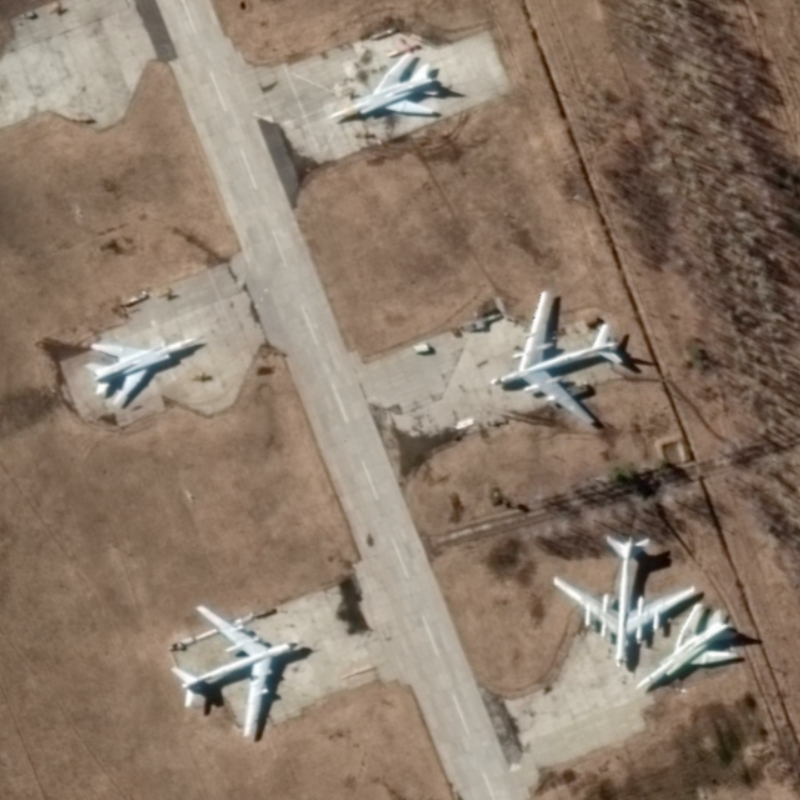A12: (633, 601, 741, 690), (325, 50, 442, 122), (83, 337, 197, 409)
A17: (551, 533, 698, 670), (489, 289, 625, 427), (169, 603, 301, 741)
